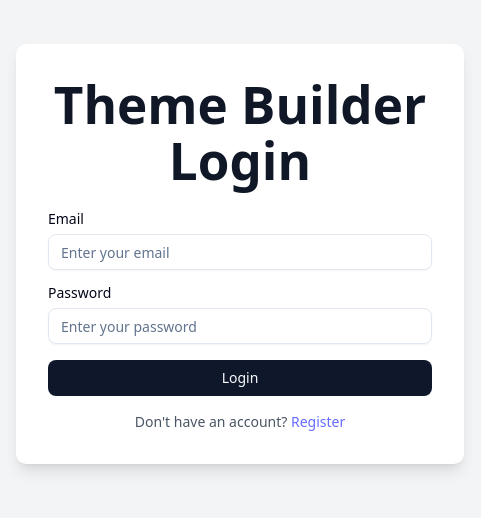
Test: LoginForm › Form Validation › clears email error when user starts typing
Trigger validation error
Click the button "Login" at (240, 378), box [48,360,432,396]
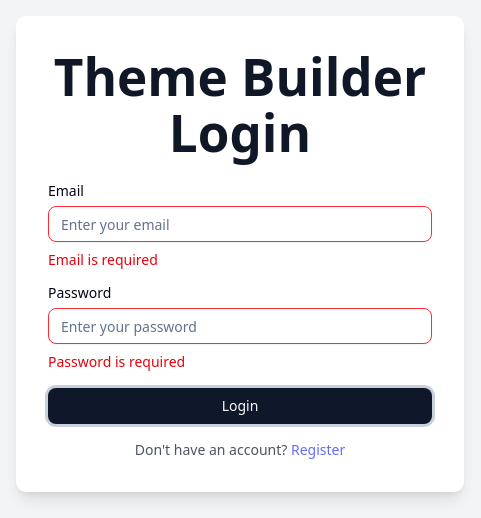
Result: the text "Email is required" is shown at [48,250,158,269]
Start typing in email field
Type "t" into the field labelled "Email" at (240, 224), box [48,206,432,242]
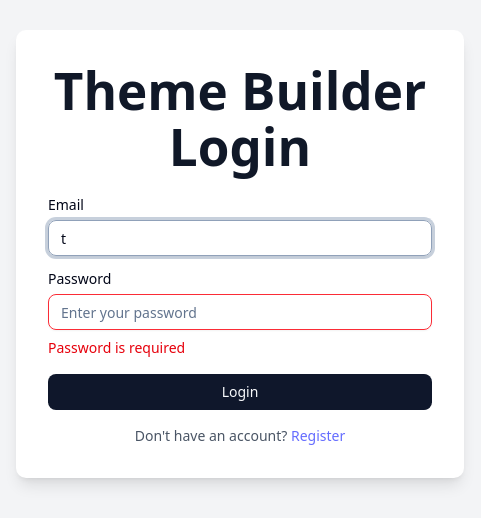
Result: the text "Email is required" is gone
